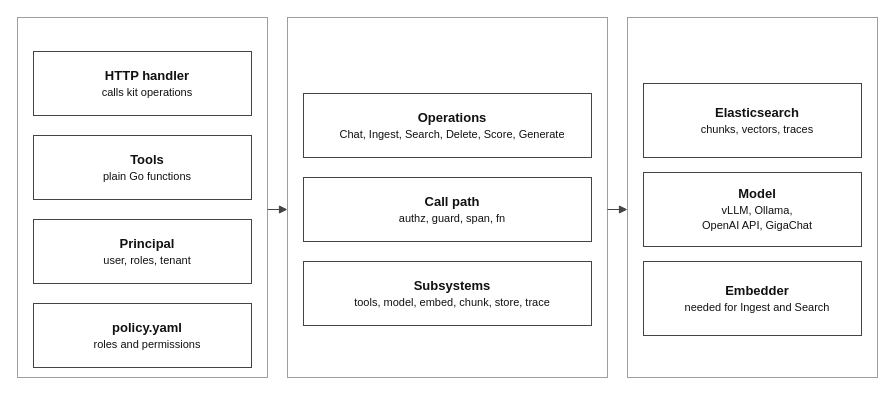
The diagram is 895 pixels wide and 395 high, and some of its shapes have lost their labels. The shapes that lost their labels are listed below. From the top down, each one's box as (x1, y1, x2, y2) in pixels, then its label:
(16, 16, 268, 378): Your service
(286, 16, 608, 378): kit (a library in your process)
(626, 16, 878, 378): What you provide
